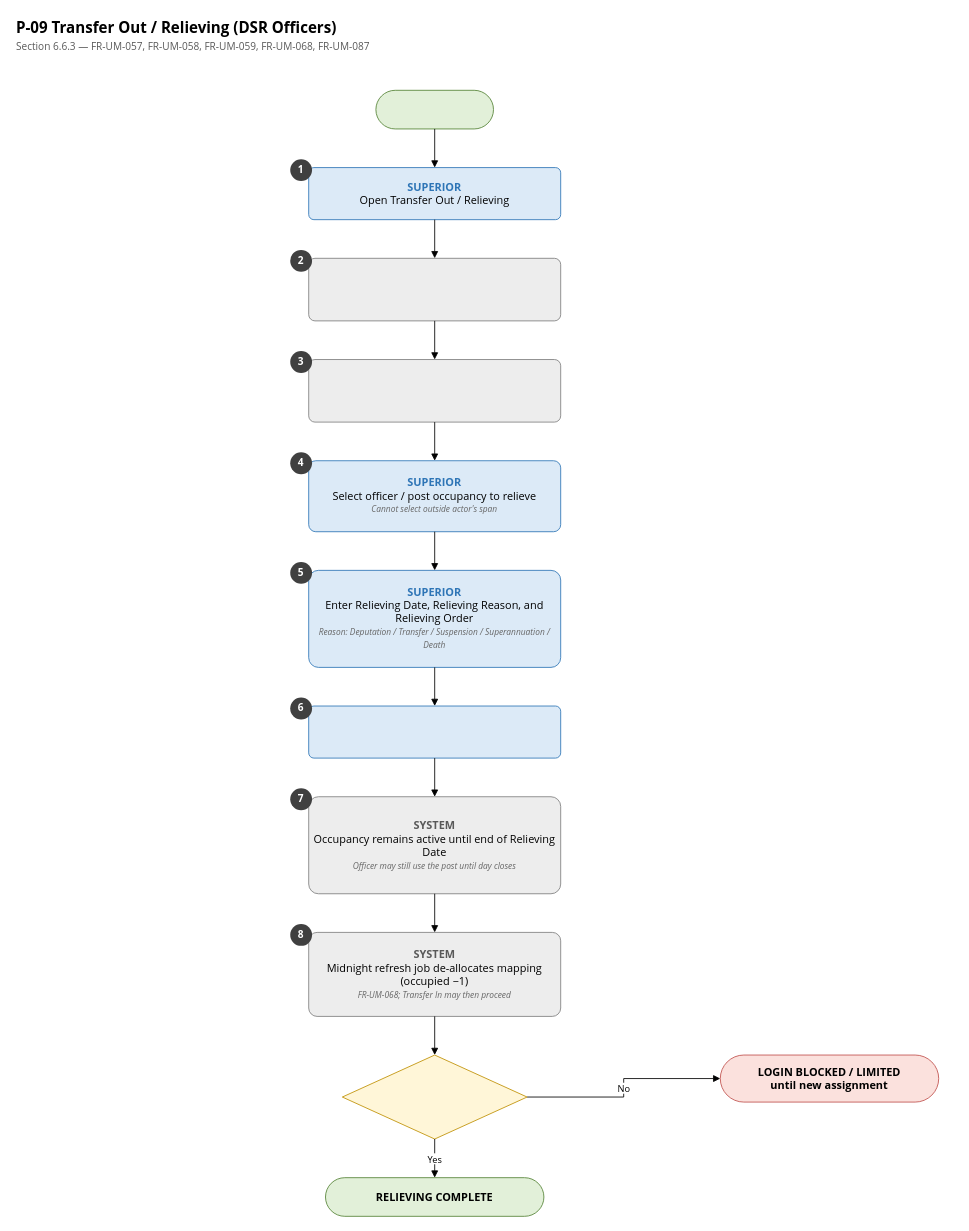
Image size: 969x1231. Some labels were removed from this diagram. The shapes that lost their labels are listed below. From the top down, each one's centre as x and y in pixels, then its label:
[434,109]: START
[434,289]: SYSTEM List offices in his/her jurisdictions
[434,390]: SYSTEM Within those offices, list post occupancies where he/she is superior
[434,731]: SUPERIOR Confirm relieving (audit-logged)
[434,1096]: Any remaining post occupancies?
